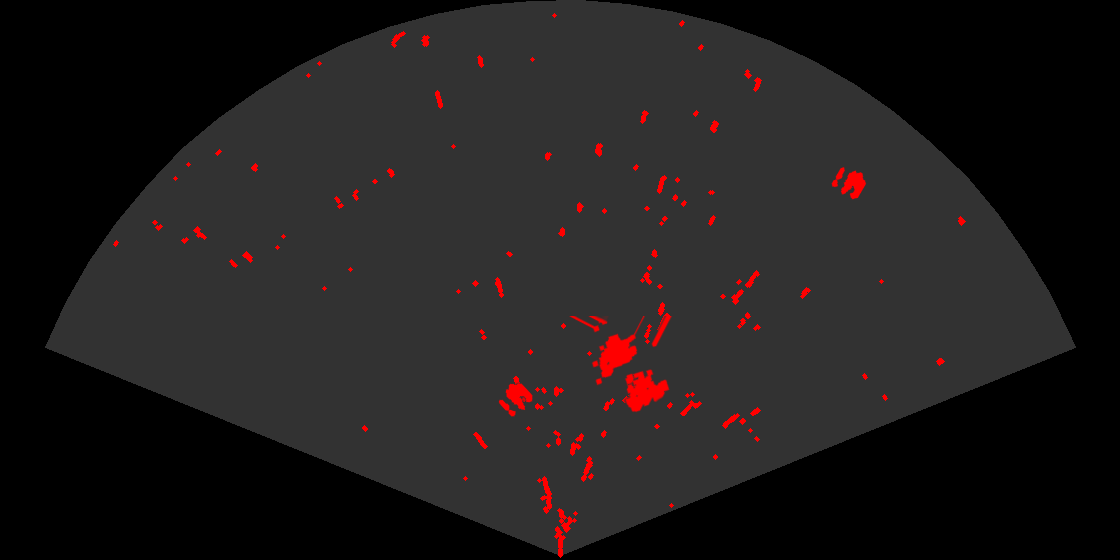ball: (830, 165, 868, 201), (497, 382, 534, 418)
cage: (568, 316, 674, 414)
